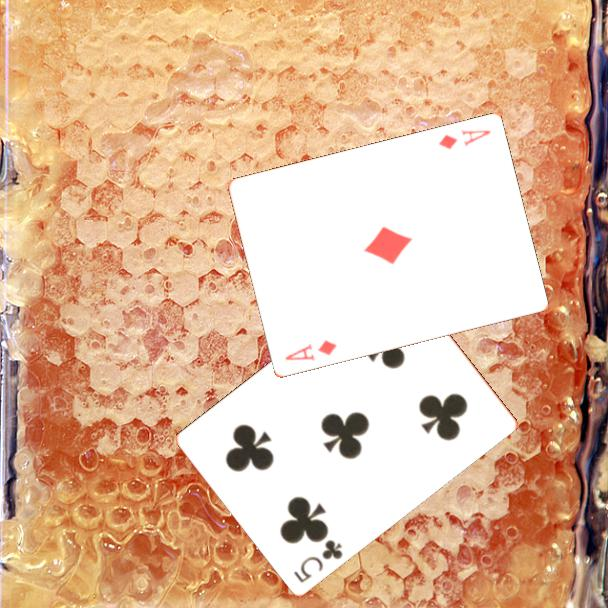c05: (290, 535, 346, 585)
d01: (281, 337, 340, 364), (435, 126, 493, 153)
